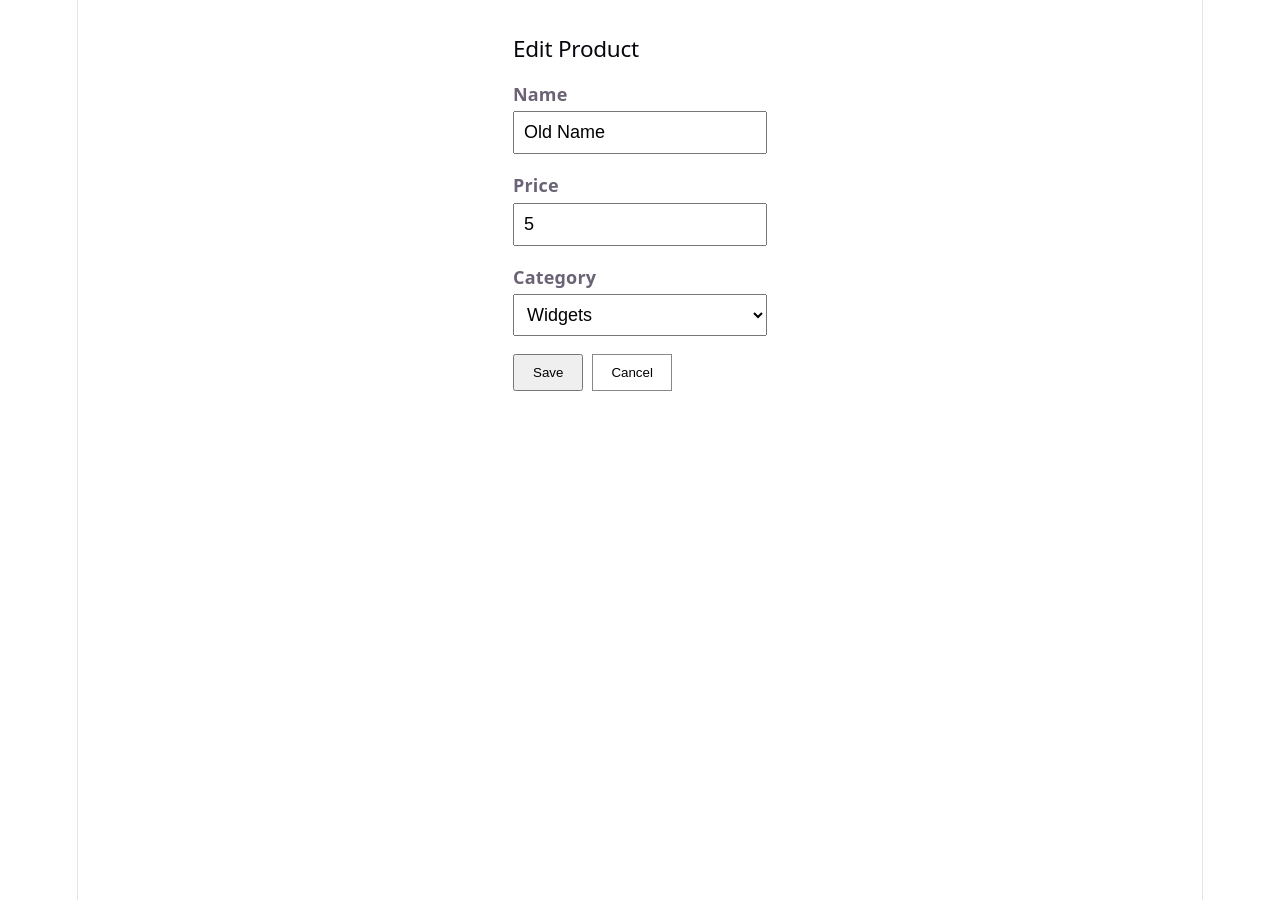
Test: ProductForm (edit mode) › shows a visible form-level error on a 400 validation failure and stays in edit mode with values preserved
Check: the dropdown labelled "Category" is enabled, box [513,294,767,336]
Replace the text in the field labelled "Name" with "Bad Update" at [640, 133], box [513,111,767,154]
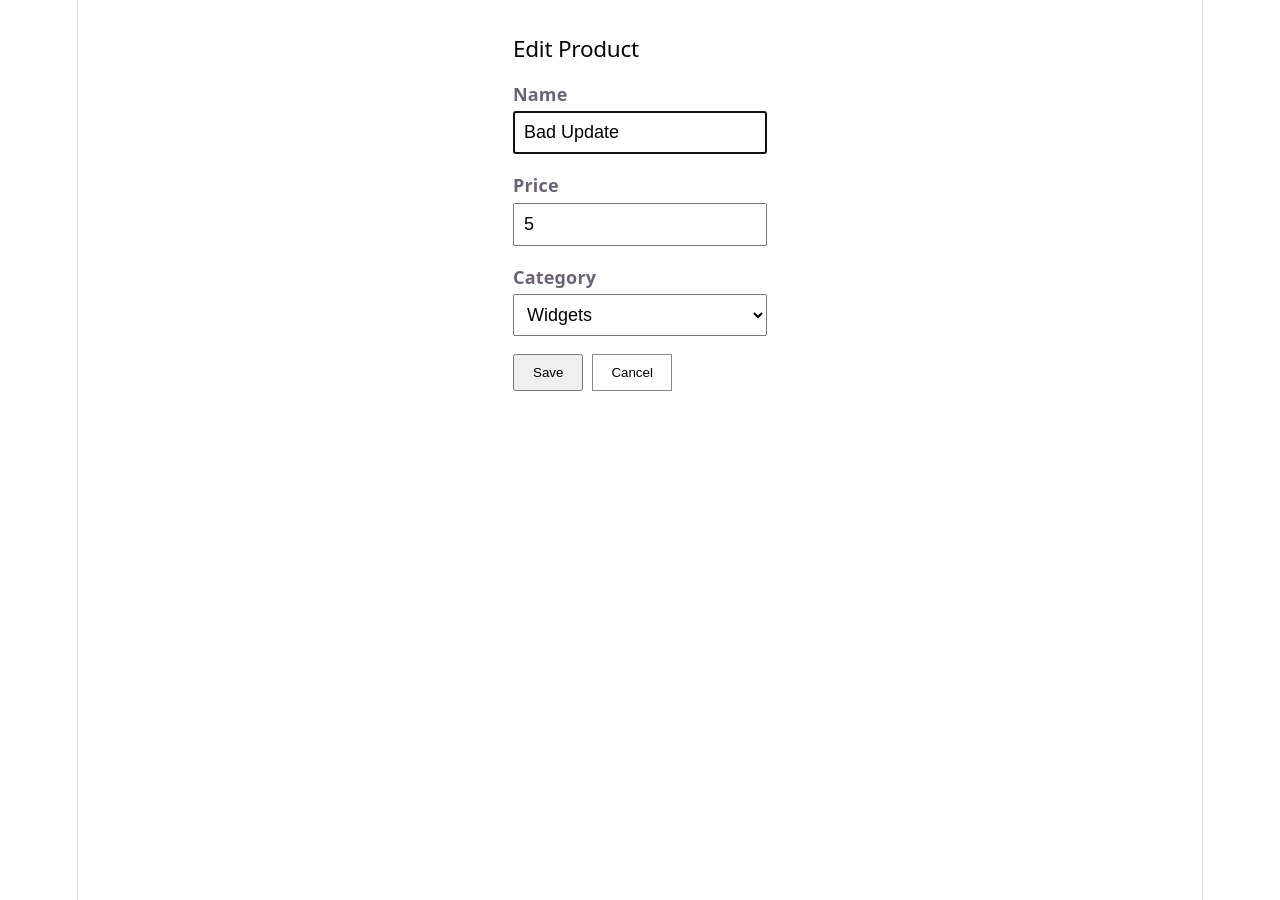
Click the button "Save".
click(548, 373)  # box [513,354,583,391]
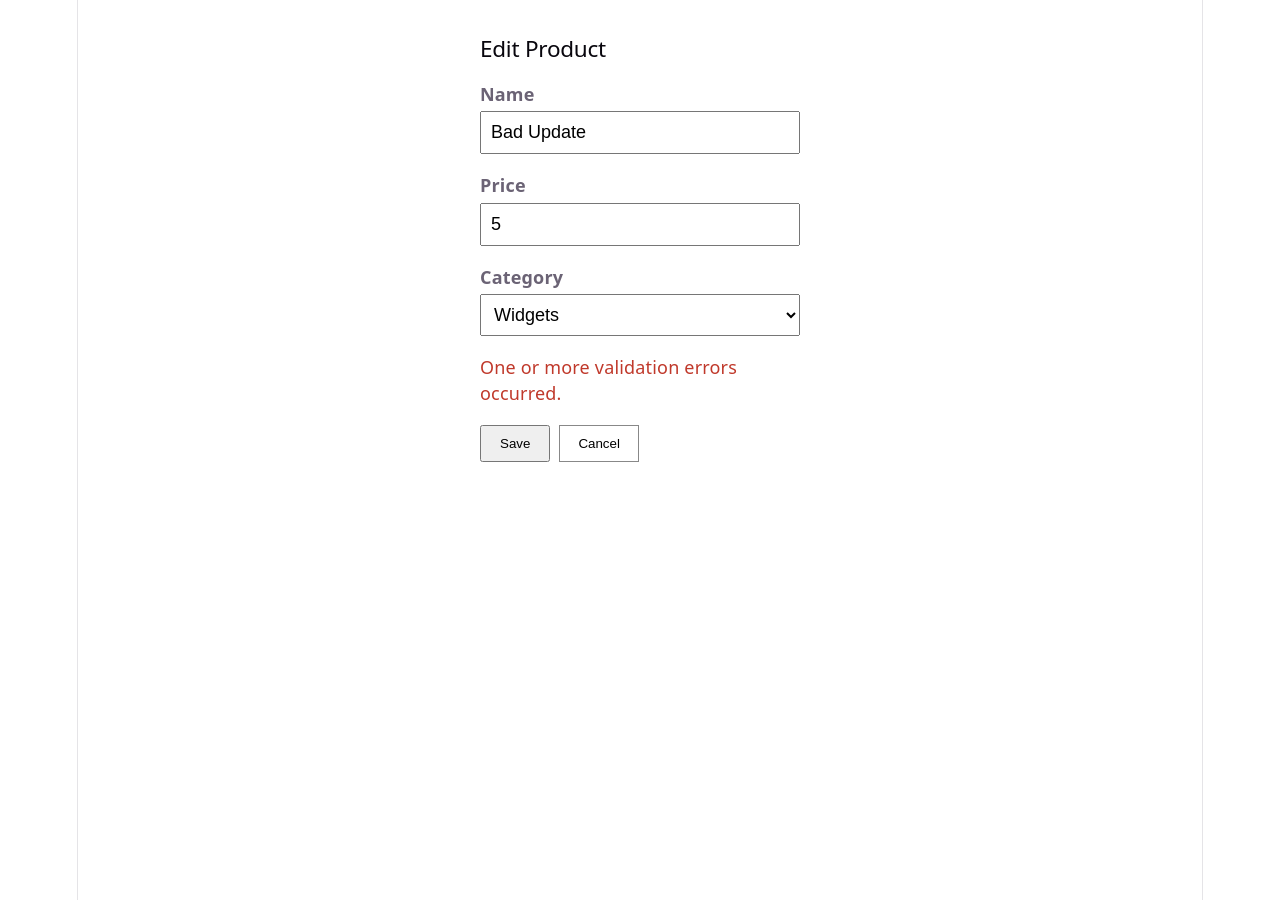
Check: the button "Save" is enabled, box [480,424,550,462]
Check: the message reads "One or more validation errors occurred.", box [480,355,737,405]
